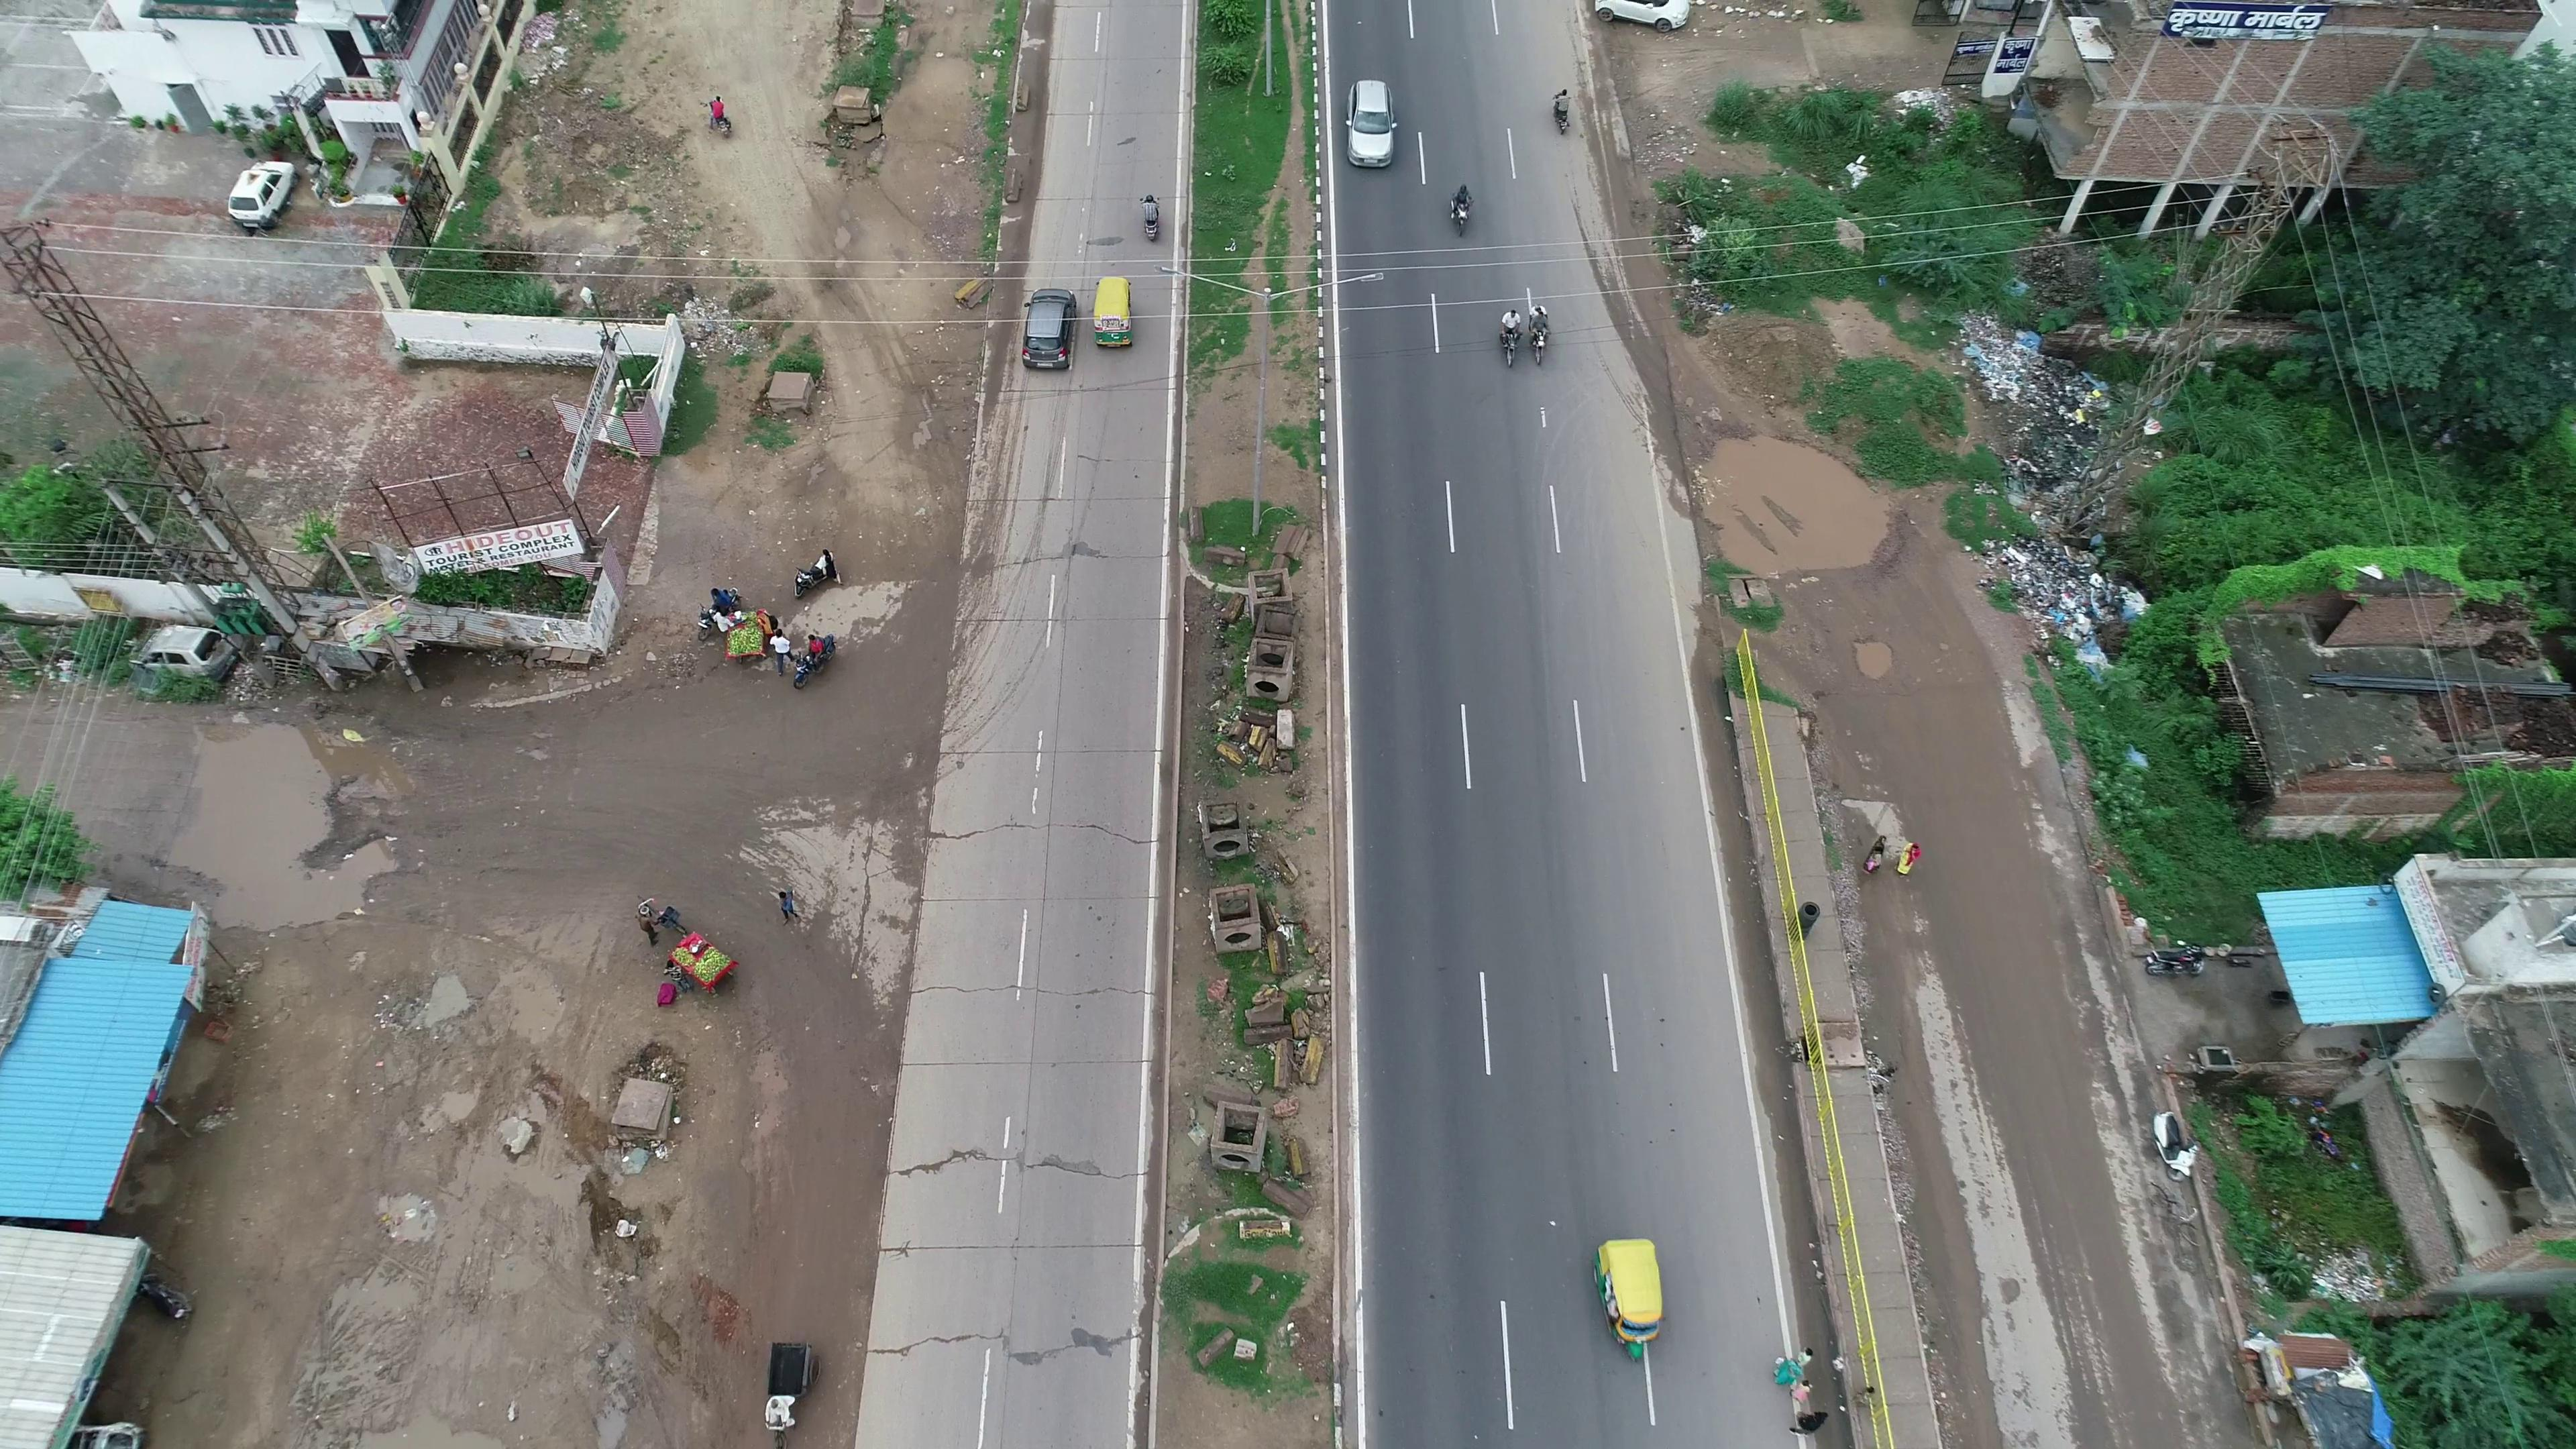Potholes: (1821, 609, 1909, 697)
Road_side_garbage: (1957, 318, 2116, 625)
